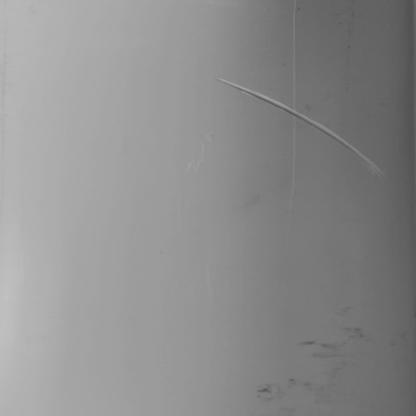sunshang: (216, 78, 388, 176)
